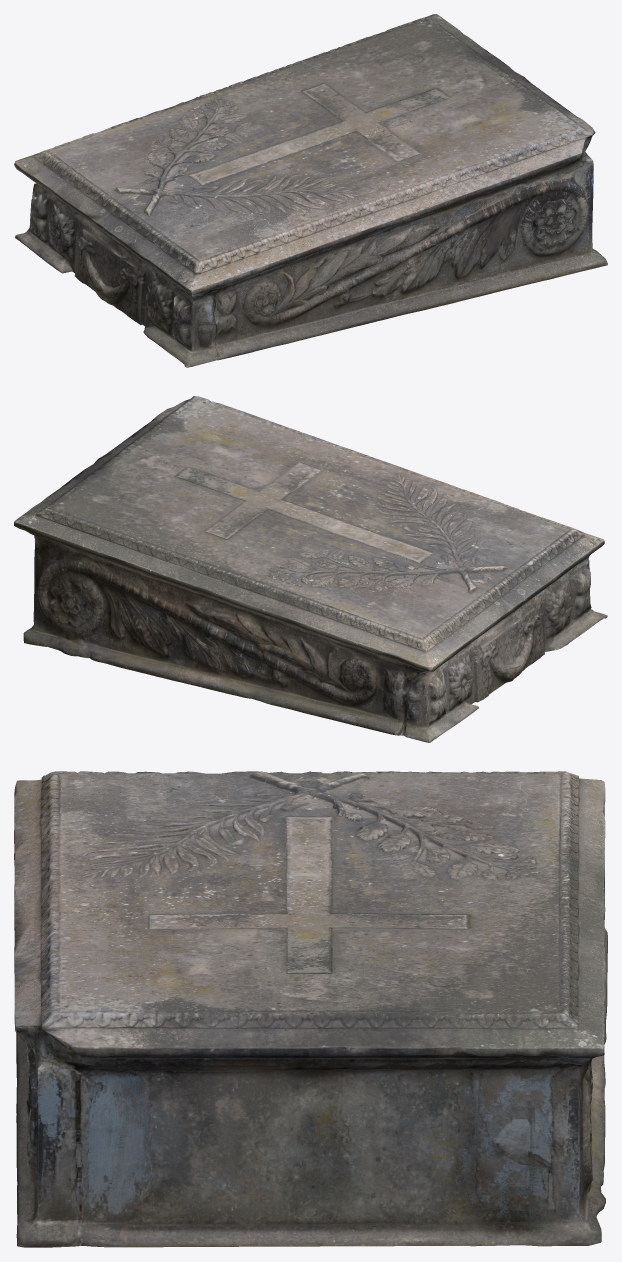
File: sm_Grave_07_01.fbx
3 renders of one model, top to bottom at view 1: azimuth 30°, elevation 25°; view 2: azimuth 150°, elevation 25°; view 3: azimuth 270°, elevation 25°, orthographic. The views are drawn at different scales.
Parts seen in each view (by area): view 1: sm_Grave_07_01_LOD0; view 2: sm_Grave_07_01_LOD0; view 3: sm_Grave_07_01_LOD0.
Part boxes in pixels (left/top/right/bottom): sm_Grave_07_01_LOD0: left=14, top=14, right=607, bottom=367; sm_Grave_07_01_LOD0: left=14, top=396, right=607, bottom=742; sm_Grave_07_01_LOD0: left=14, top=771, right=607, bottom=1247.
Bounding box in the file's own units: 194 × 141 × 57.74.
